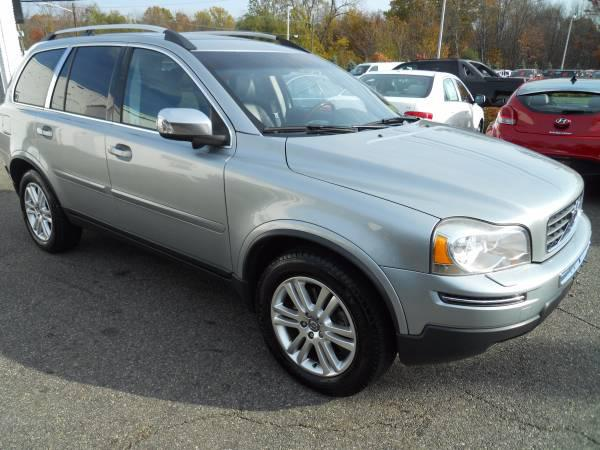volvo: (1, 13, 600, 409)
